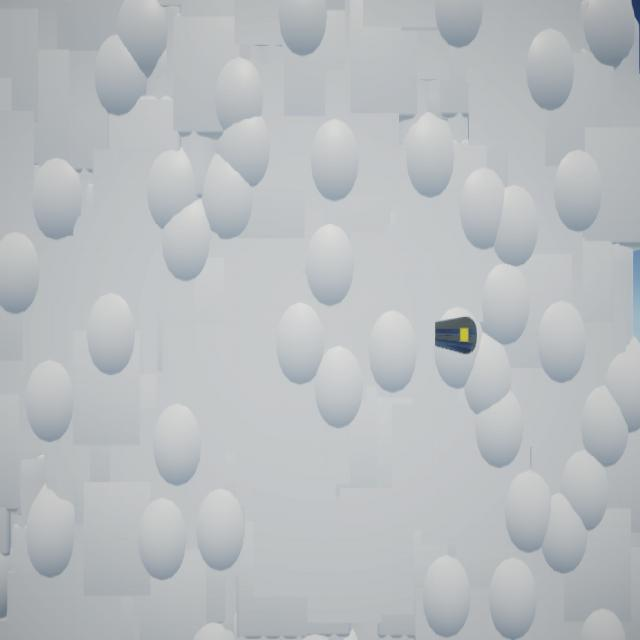handle_folk: (436, 317, 478, 356)
